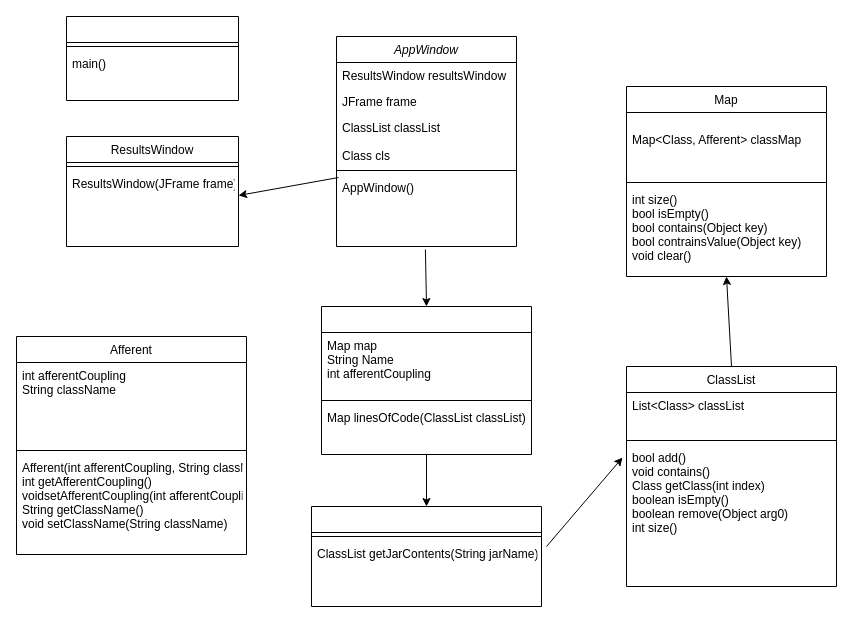
Image size: 853x623. Some labels were removed from this diagram. Here are the shapes that lost their labels. From the top down, the box of each, then its label:
(66, 16, 238, 100): Runner
(320, 306, 532, 454): Reflection
(310, 506, 542, 606): ReadJarFile
